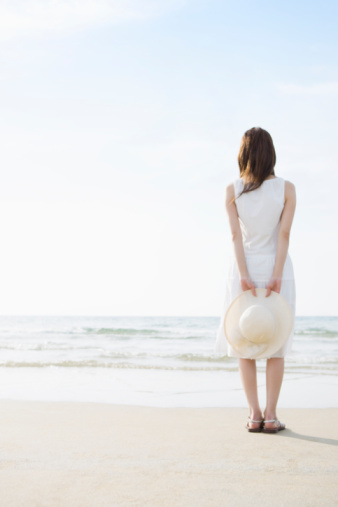em pe: (209, 128, 292, 445)
